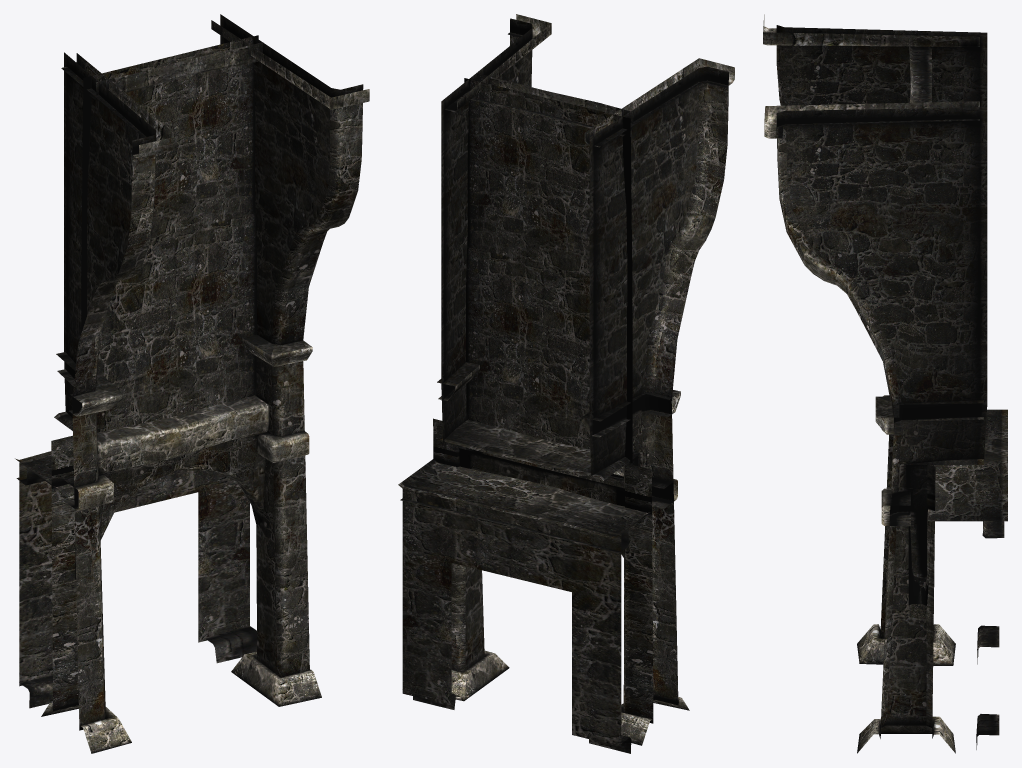
Rendered from church_window_no_window_doorway.dae.
The picture shows the model from 3 angles, left to right: view 1: azimuth 30°, elevation 25°; view 2: azimuth 150°, elevation 25°; view 3: azimuth 270°, elevation 25°; orthographic projection. The views are drawn at different scales.
Visible parts, largest first — view 1: polySurface146; view 2: polySurface146; view 3: polySurface146.
Boxes of the visible parts, x1=… form: polySurface146: x1=15, y1=14, x2=369, y2=753; polySurface146: x1=398, y1=14, x2=734, y2=753; polySurface146: x1=763, y1=14, x2=1007, y2=753.
Bounding box in the file's own units: 4.5 × 12 × 4.23.
